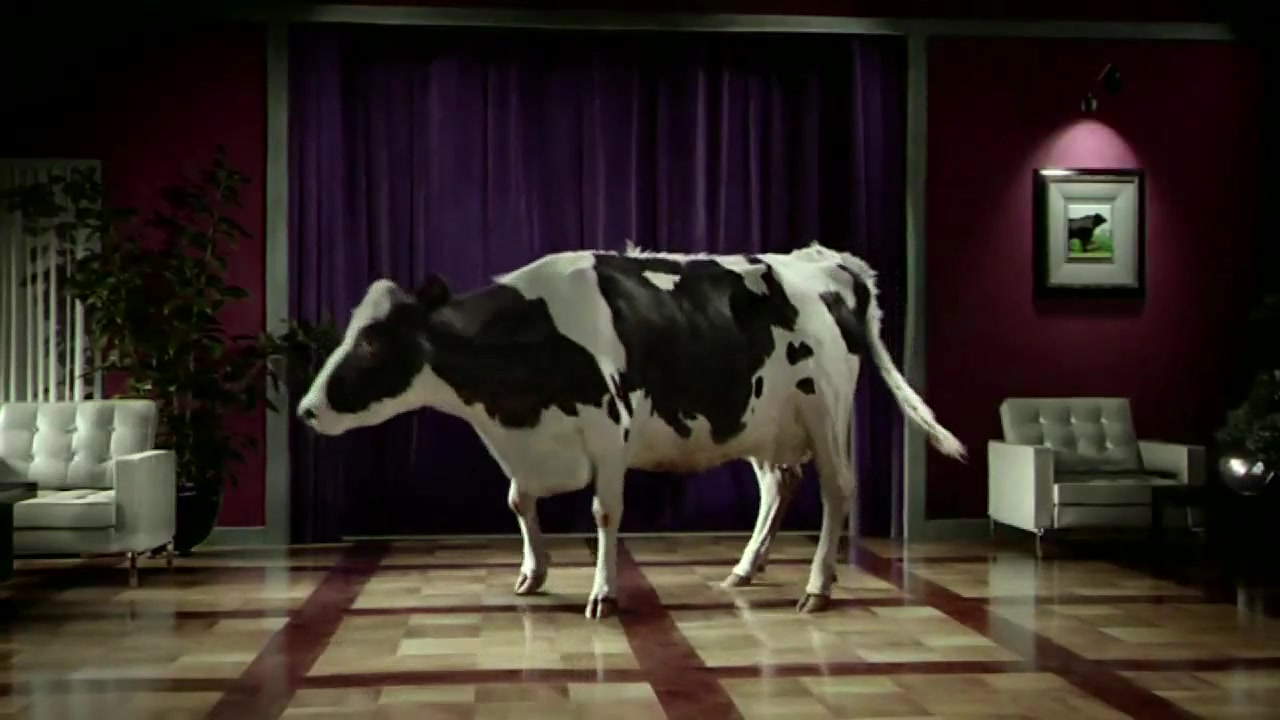cow: (294, 236, 974, 621)
